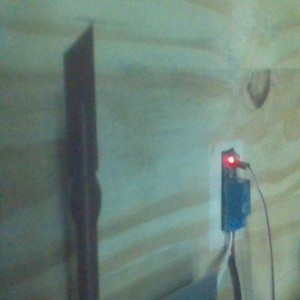cutter: (62, 18, 103, 300)
